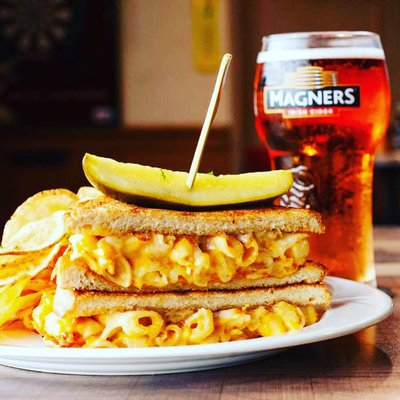pizza: (252, 30, 392, 290)
soup: (14, 192, 329, 349)
